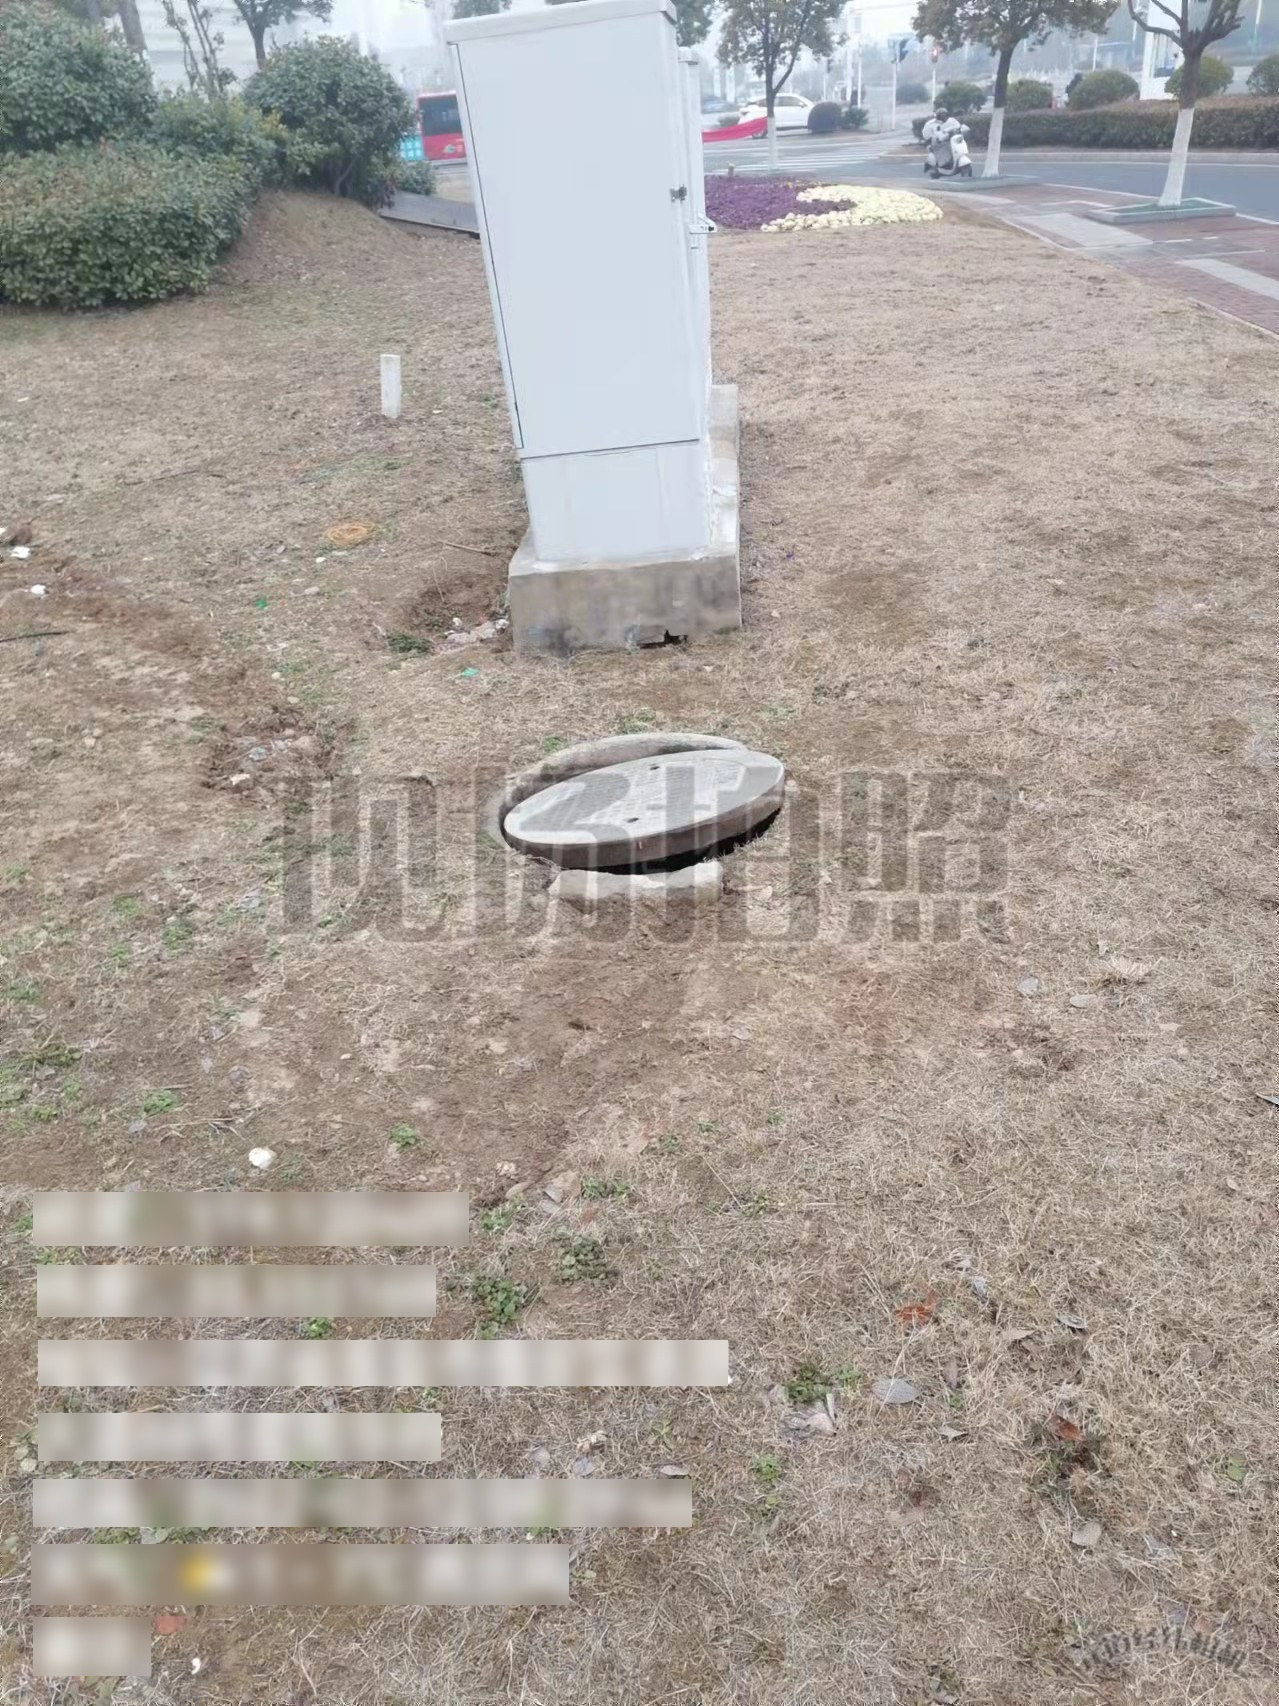uncovered: (490, 725, 793, 881)
